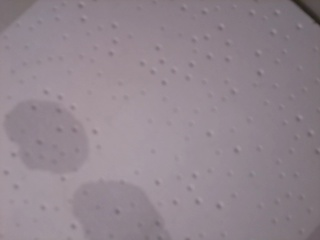Water_detected: (29, 112, 153, 240)
